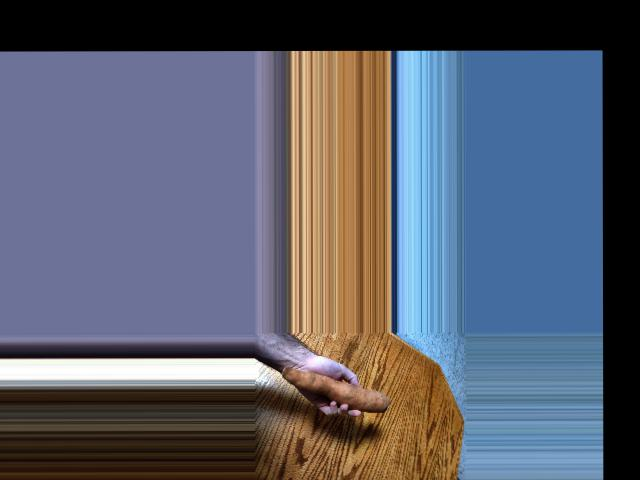sweet_potato: (294, 372, 405, 418)
